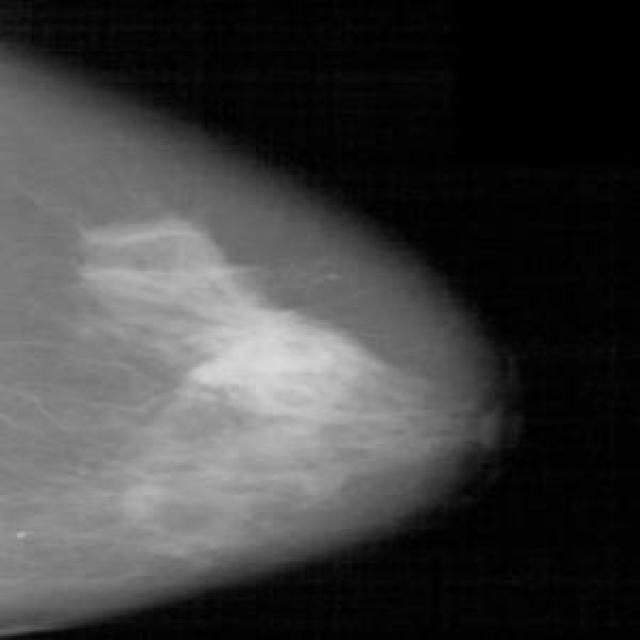tumor: (164, 303, 382, 429)
